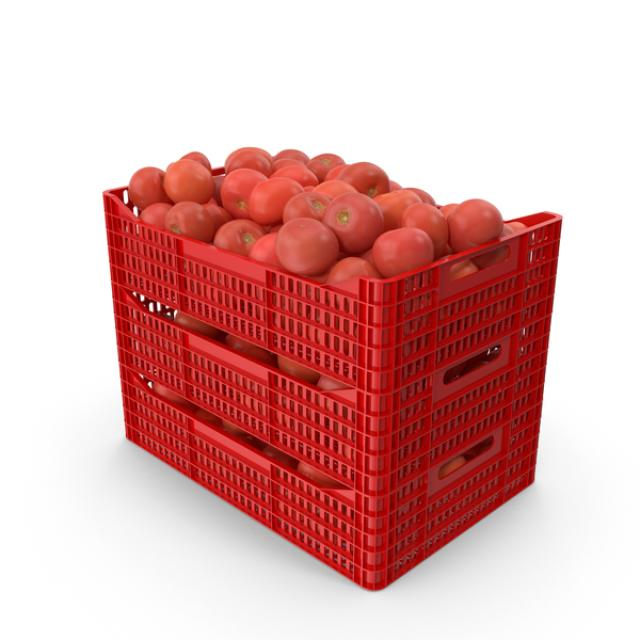basket: (84, 187, 563, 601)
